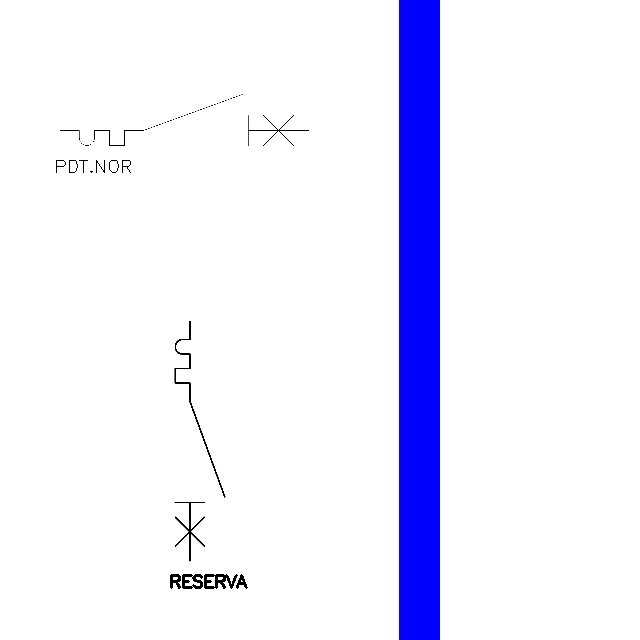interruptor_termomagnetico: (54, 88, 315, 152), (169, 315, 230, 567)
